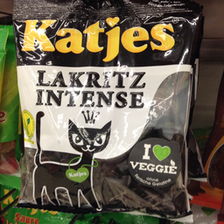candy: (14, 1, 197, 221)
